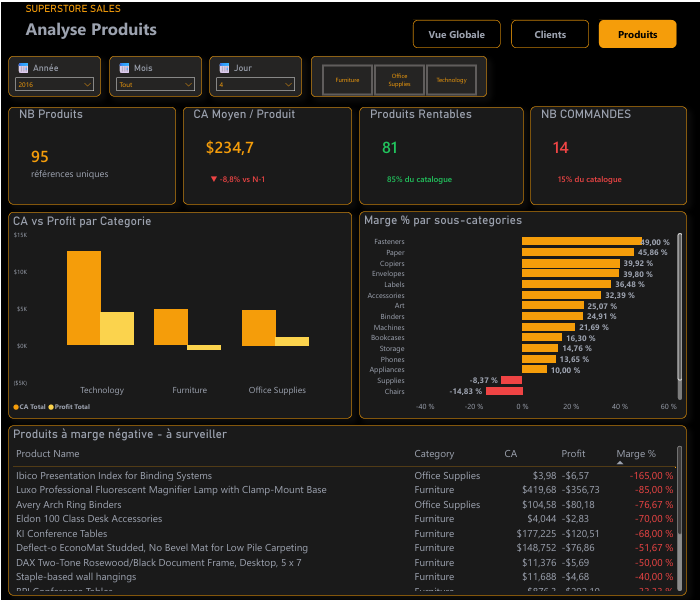

The page's visual inventory and layout, read from the dashboard file:
{"tool":"powerbi","page":{"name":"Page 3","canvas":[1400,1200],"ordinal":2},"visuals":[{"type":"shape","title":"SUPERSTORE SALES","box":[47.3,0,300.2,89.2],"z":0},{"type":"cardVisual","title":"CA Moyen / Produit","fields":{"Data":["_Mesures.CA Moyen Produit"]},"box":[361.9,208,337.9,195.4],"z":1000},{"type":"slicer","fields":{"Values":["Calendrier.Année"]},"box":[12.7,105.5,185.6,81.9],"z":2000},{"type":"slicer","fields":{"Values":["Calendrier.Mois"]},"box":[214.7,105.5,185.6,81.9],"z":3000},{"type":"slicer","fields":{"Values":["Calendrier.Jour"]},"box":[414.8,105.5,185.6,81.9],"z":4000},{"type":"cardVisual","title":"NB Produits","fields":{"Data":["_Mesures.Nb Produits"]},"box":[12.6,208,335.4,195.4],"z":5000},{"type":"cardVisual","title":"NB COMMANDES","fields":{"Data":["_Mesures.Nb Produits Perte"]},"box":[1057.1,207.4,312.9,196.5],"z":6000},{"type":"cardVisual","title":"Produits Rentables","fields":{"Data":["_Mesures.Nb Produits Rentables"]},"box":[714.9,208,327.8,195.4],"z":7000},{"type":"clusteredBarChart","title":"Marge % par sous-categories ","fields":{"Category":["Sample - Superstore.Sub-Category"],"Y":["_Mesures.Marge %"]},"box":[714.9,417.4,654.4,413.6],"z":8000},{"type":"shape","box":[822.4,34,174.7,55.8],"z":9000},{"type":"shape","box":[1018.9,34,155.3,55.8],"z":10000},{"type":"shape","box":[1193.6,34,155.3,55.8],"z":11000},{"type":"clusteredColumnChart","title":"CA vs Profit par Categorie","fields":{"Category":["Sample - Superstore.Category"],"Y":["_Mesures.CA Total","_Mesures.Profit Total"]},"box":[12.9,417.6,686.7,413.3],"z":12000},{"type":"slicer","fields":{"Values":["Sample - Superstore.Category"]},"box":[617.7,106.1,352.4,82.1],"z":13000},{"type":"tableEx","title":"Produits à marge négative - à surveiller ","fields":{"Values":["Sample - Superstore.Product Name","Sample - Superstore.Category","_Mesures.CA Total","_Mesures.Profit Affichage","_Mesures.Marge %"]},"box":[12.6,844.8,1356.7,340.4],"z":14000}]}

Visuals, with their boxes in screenshot pixels (x1, y1, x2, y2), scaled from the page's 1400x1200 canvas onto the 700x600 screenshot:
"SUPERSTORE SALES" shape: l=24, t=0, r=174, b=45
"CA Moyen / Produit" cardVisual: l=181, t=104, r=350, b=202
slicer - Calendrier.Année: l=6, t=53, r=99, b=94
slicer - Calendrier.Mois: l=107, t=53, r=200, b=94
slicer - Calendrier.Jour: l=207, t=53, r=300, b=94
"NB Produits" cardVisual: l=6, t=104, r=174, b=202
"NB COMMANDES" cardVisual: l=529, t=104, r=685, b=202
"Produits Rentables" cardVisual: l=357, t=104, r=521, b=202
"Marge % par sous-categories " clusteredBarChart: l=357, t=209, r=685, b=416
shape: l=411, t=17, r=499, b=45
shape: l=509, t=17, r=587, b=45
shape: l=597, t=17, r=674, b=45
"CA vs Profit par Categorie" clusteredColumnChart: l=6, t=209, r=350, b=415
slicer - Sample - Superstore.Category: l=309, t=53, r=485, b=94
"Produits à marge négative - à surveiller " tableEx: l=6, t=422, r=685, b=593
